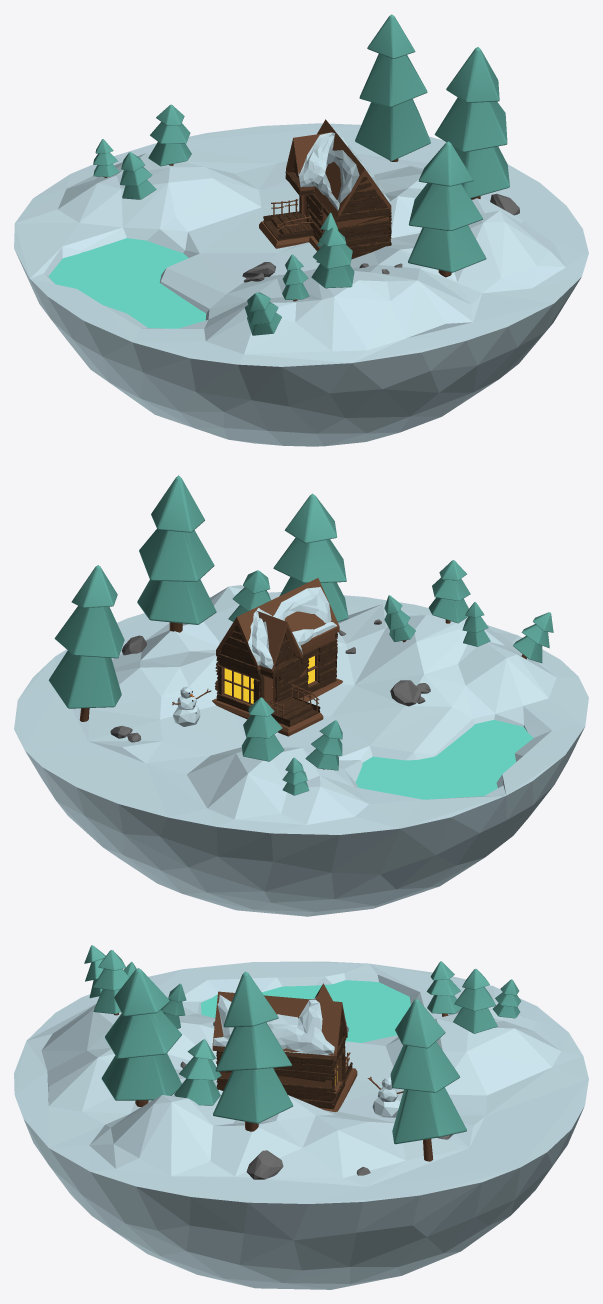
The model's file is interior1.glb.
3 views of the same model, one above another, from view 1: azimuth 30°, elevation 25°; view 2: azimuth 150°, elevation 25°; view 3: azimuth 270°, elevation 25° (orthographic). The views are drawn at different scales.
Visible parts, largest first — view 1: Ground, Lake, Tree4.004, Tree3, Tree2, HouseBlocking, HouseBlocking.001, Tree4.002, Tree4, Tree1, Tree1.001, Tree2.001 (+1 smaller); view 2: Ground, Lake, Tree3, Tree4.004, Tree2, HouseBlocking, HouseBlocking.001, Tree4, Tree4.002, Tree1, Tree1.001, Tree4.001 (+6 smaller); view 3: Ground, Tree3, Tree2, Tree4.004, Lake, HouseBlocking, HouseBlocking.001, Tree4.001, Tree4, Tree4.002, Tree1, Icosphere.016 (+5 smaller).
Part boxes in pixels (x1,y1,x2,y2): Ground: [14, 123, 588, 446]; Lake: [48, 238, 206, 328]; Tree4.004: [355, 14, 430, 161]; Tree3: [434, 47, 509, 198]; Tree2: [408, 141, 486, 272]; HouseBlocking: [286, 119, 391, 247]; HouseBlocking.001: [298, 130, 390, 210]; Tree4.002: [311, 227, 354, 288]; Tree4: [148, 104, 191, 166]; Tree1: [120, 152, 156, 199]; Tree1.001: [244, 292, 281, 335]; Tree2.001: [282, 254, 309, 299]; Ground: [14, 585, 588, 916]; Lake: [355, 720, 533, 799]; Tree3: [137, 475, 216, 624]; Tree4.004: [48, 565, 124, 721]; Tree2: [273, 493, 348, 621]; HouseBlocking: [216, 578, 339, 705]; HouseBlocking.001: [219, 587, 336, 669]; Tree4: [241, 697, 284, 761]; Tree4.002: [428, 560, 470, 623]; Tree1: [305, 720, 342, 770]; Tree1.001: [513, 612, 553, 663]; Tree4.001: [228, 570, 270, 621]; Ground: [14, 961, 588, 1289]; Tree3: [213, 971, 293, 1123]; Tree2: [101, 968, 181, 1100]; Tree4.004: [390, 998, 466, 1161]; Lake: [201, 980, 410, 1042]; HouseBlocking: [212, 983, 347, 1092]; HouseBlocking.001: [213, 995, 348, 1055]; Tree4.001: [174, 1039, 221, 1105]; Tree4: [453, 968, 497, 1033]; Tree4.002: [93, 950, 129, 1014]; Tree1: [426, 961, 462, 1013]; Icosphere.016: [246, 1150, 283, 1179].
Bounding box in the file's own units: 3.53 × 2.44 × 3.54.
9 materials, 1 textured.
